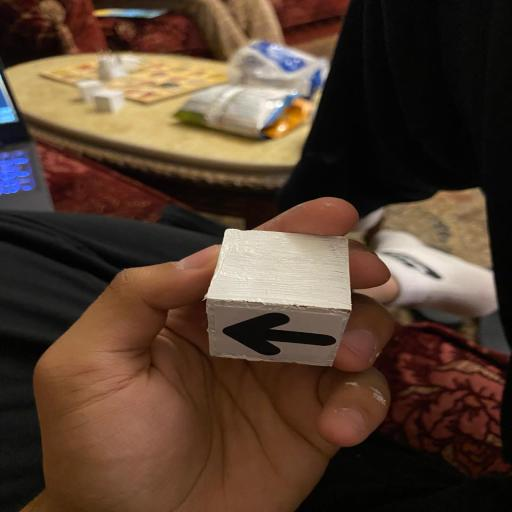Back: (202, 229, 354, 367)
